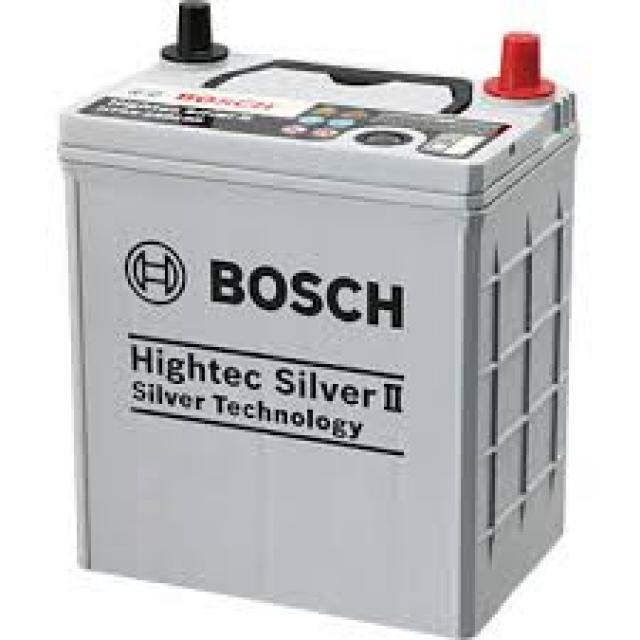battery: (58, 3, 574, 640)
